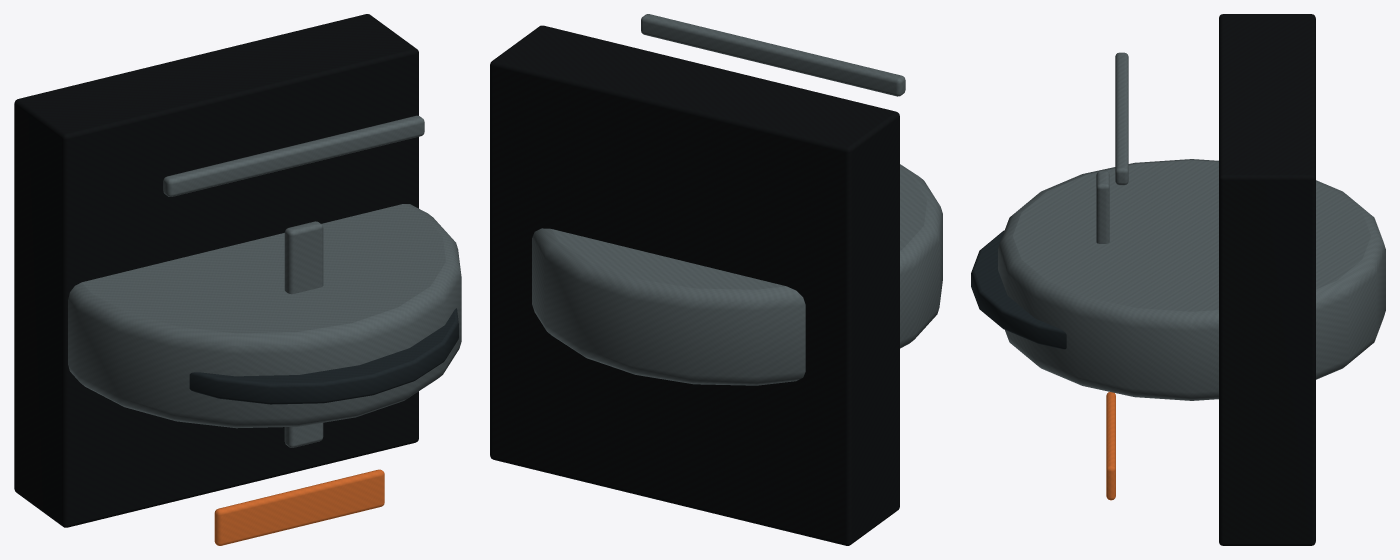
Rendered from IndustrialFan.glb.
3 views of the same model, side by side, from view 1: azimuth 30°, elevation 25°; view 2: azimuth 150°, elevation 25°; view 3: azimuth 270°, elevation 25° (orthographic). The views are drawn at different scales.
Parts seen in each view (by area): view 1: IndustrialFan_Mesh; view 2: IndustrialFan_Mesh; view 3: IndustrialFan_Mesh.
Boxes of the visible parts, x1=… form: IndustrialFan_Mesh: x1=14, y1=14, x2=461, y2=545; IndustrialFan_Mesh: x1=490, y1=14, x2=942, y2=545; IndustrialFan_Mesh: x1=971, y1=14, x2=1385, y2=545.
Size of the model in its own units: 0.72 by 0.76 by 0.77.
5 materials, 5 textured.
